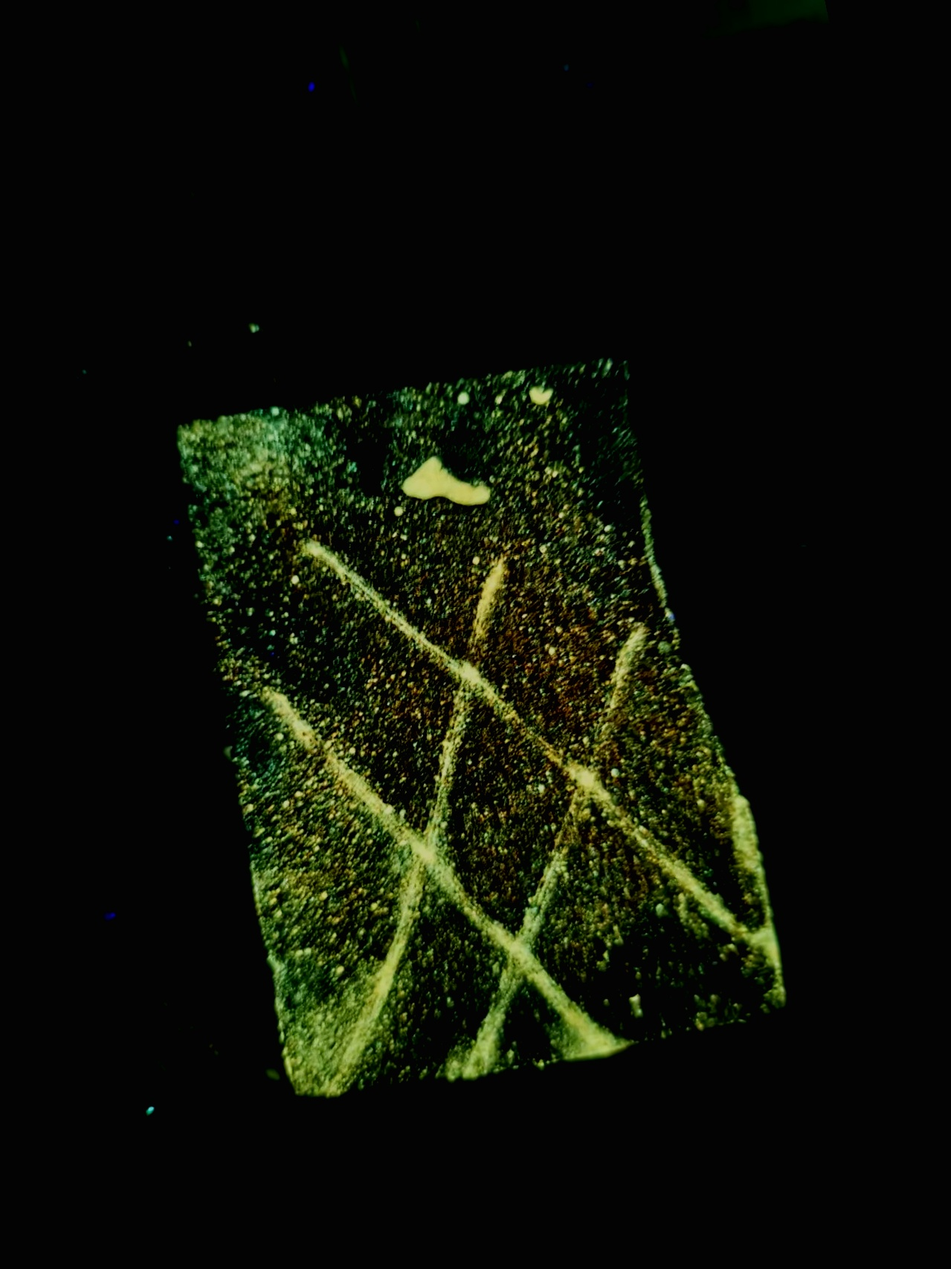Fissure: (288, 448, 785, 1027), (219, 534, 624, 1103), (258, 625, 619, 1102), (377, 601, 739, 1075)
